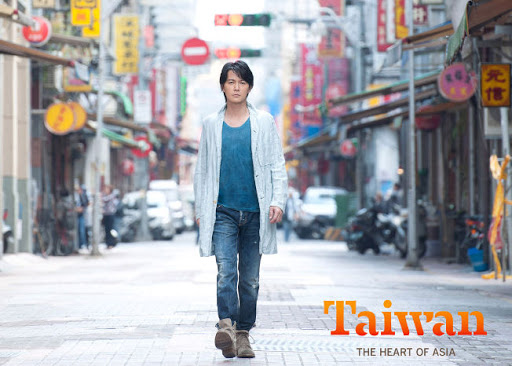people: (196, 61, 286, 364)
